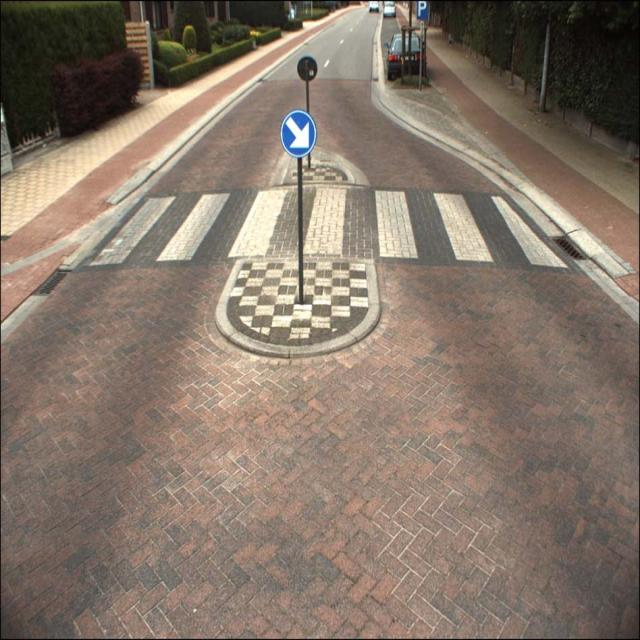park: (416, 0, 429, 21)
